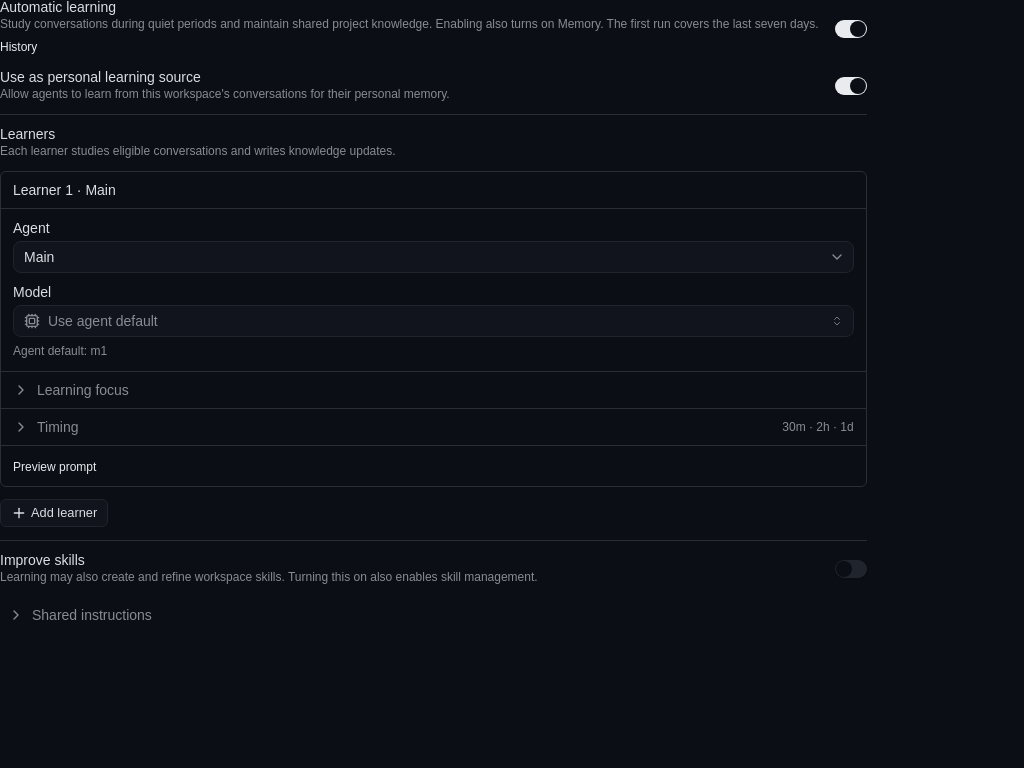
preview opens a dialog with the reviewer prompt
Click the button "Preview prompt": (55, 467) [13,459,96,475]
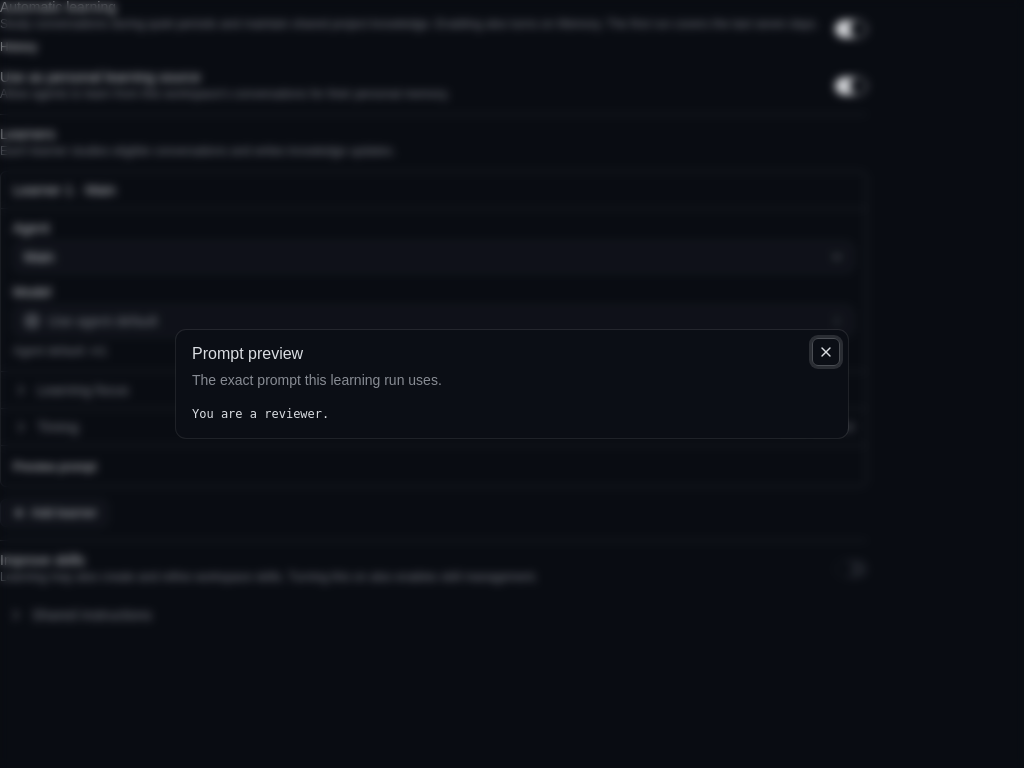
expect the text "You are a reviewer." is shown: met, box [192,407,329,421]
expect the heading "Prompt preview" is shown: met, box [192,345,303,362]
